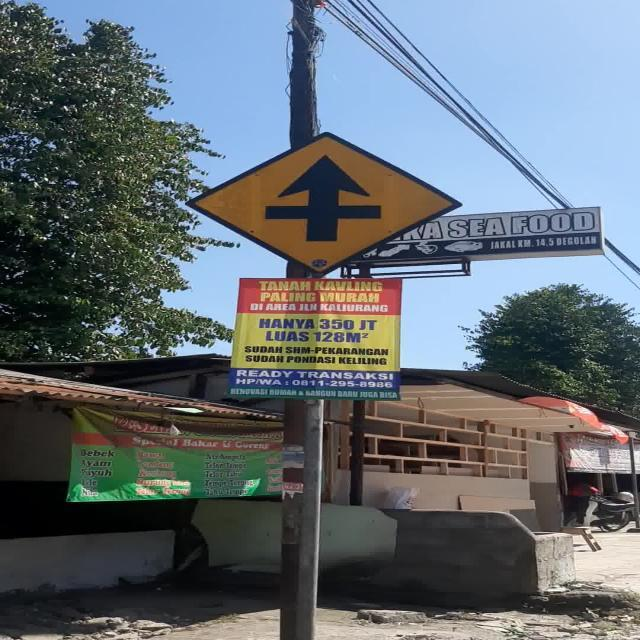Persimpangan 3 Prioritas: (183, 132, 464, 276)
